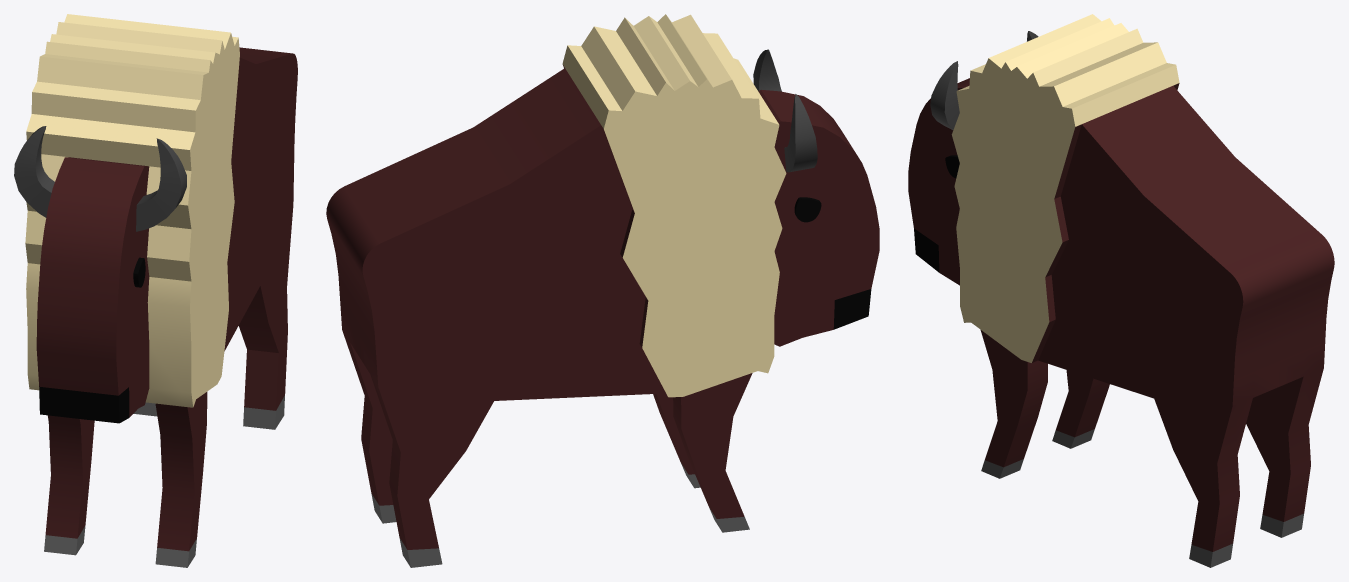
Rendered from bison.glb.
3 renders of one model, left to right at view 1: azimuth 30°, elevation 25°; view 2: azimuth 150°, elevation 25°; view 3: azimuth 270°, elevation 25°, orthographic. The views are drawn at different scales.
Visible parts, largest first — view 1: Plane.116, Cube.6222; view 2: Plane.116, Cube.6222; view 3: Plane.116, Cube.6222.
Boxes of the visible parts, <box> form: Plane.116: <box>25,14,297,567</box>; Cube.6222: <box>14,126,186,231</box>; Plane.116: <box>326,14,879,567</box>; Cube.6222: <box>753,49,817,172</box>; Plane.116: <box>908,14,1334,567</box>; Cube.6222: <box>930,31,1038,129</box>.
Bounding box in the file's own units: 1.91 × 2.11 × 1.91.
Materials: 1 (1 with a texture image).
